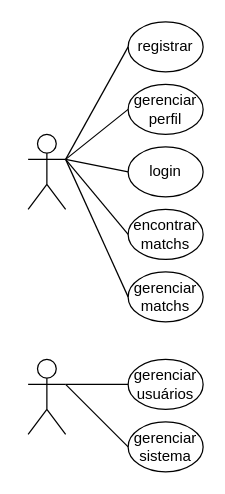
Image size: 225x494. Some labels were removed from this diagram. Here are the shapes that lost their labels. From the top down, the centre of each, then its label:
At (x=46, y=171): "Usuário".
At (x=46, y=396): "admin".
